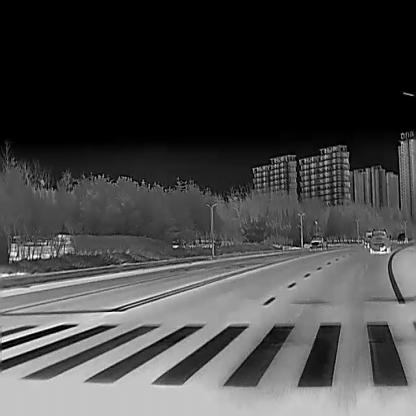car: (368, 226, 390, 252), (309, 234, 327, 250), (364, 230, 372, 248), (396, 231, 407, 243)
